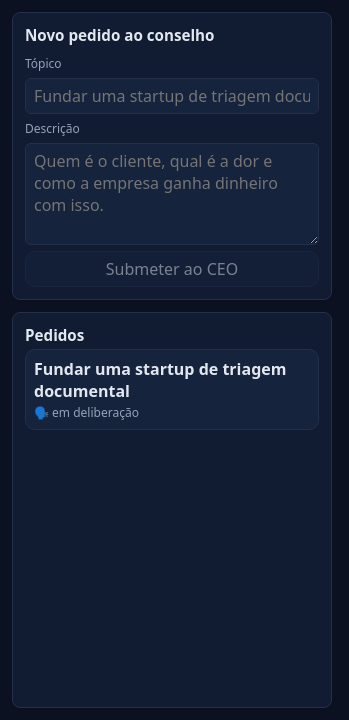
Test case: RequestsPanel › mantém o botão de submissão travado enquanto o formulário está incompleto
This screenshot has width=349, height=720.
Expected: the button "Submeter ao CEO" is disabled, top-left (25, 251), bottom-right (319, 287)
Type "Fundar" into the field labelled "Tópico".
click(172, 96); type("Fundar")  # box top-left (25, 78), bottom-right (319, 114)
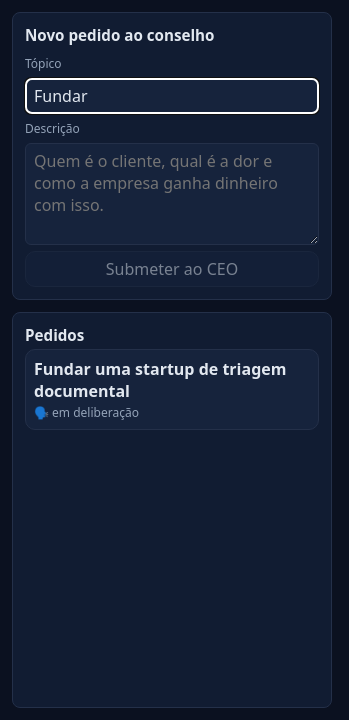
Expected: the button "Submeter ao CEO" is disabled, top-left (25, 251), bottom-right (319, 287)
Type "Produto para advogados." into the text box labelled "Descrição".
click(172, 194); type("Produto para advogados.")  # box top-left (25, 143), bottom-right (319, 245)
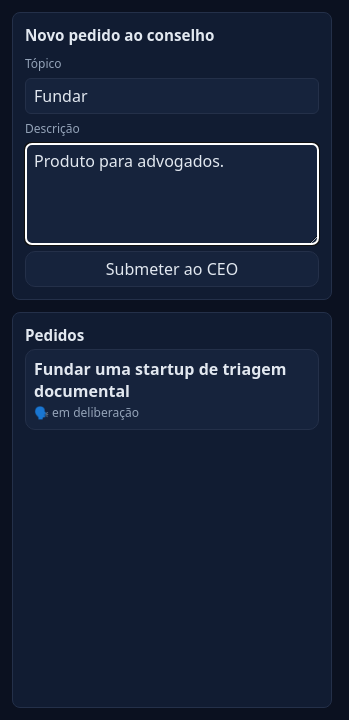
Now the button "Submeter ao CEO" is enabled, box top-left (25, 251), bottom-right (319, 287)
